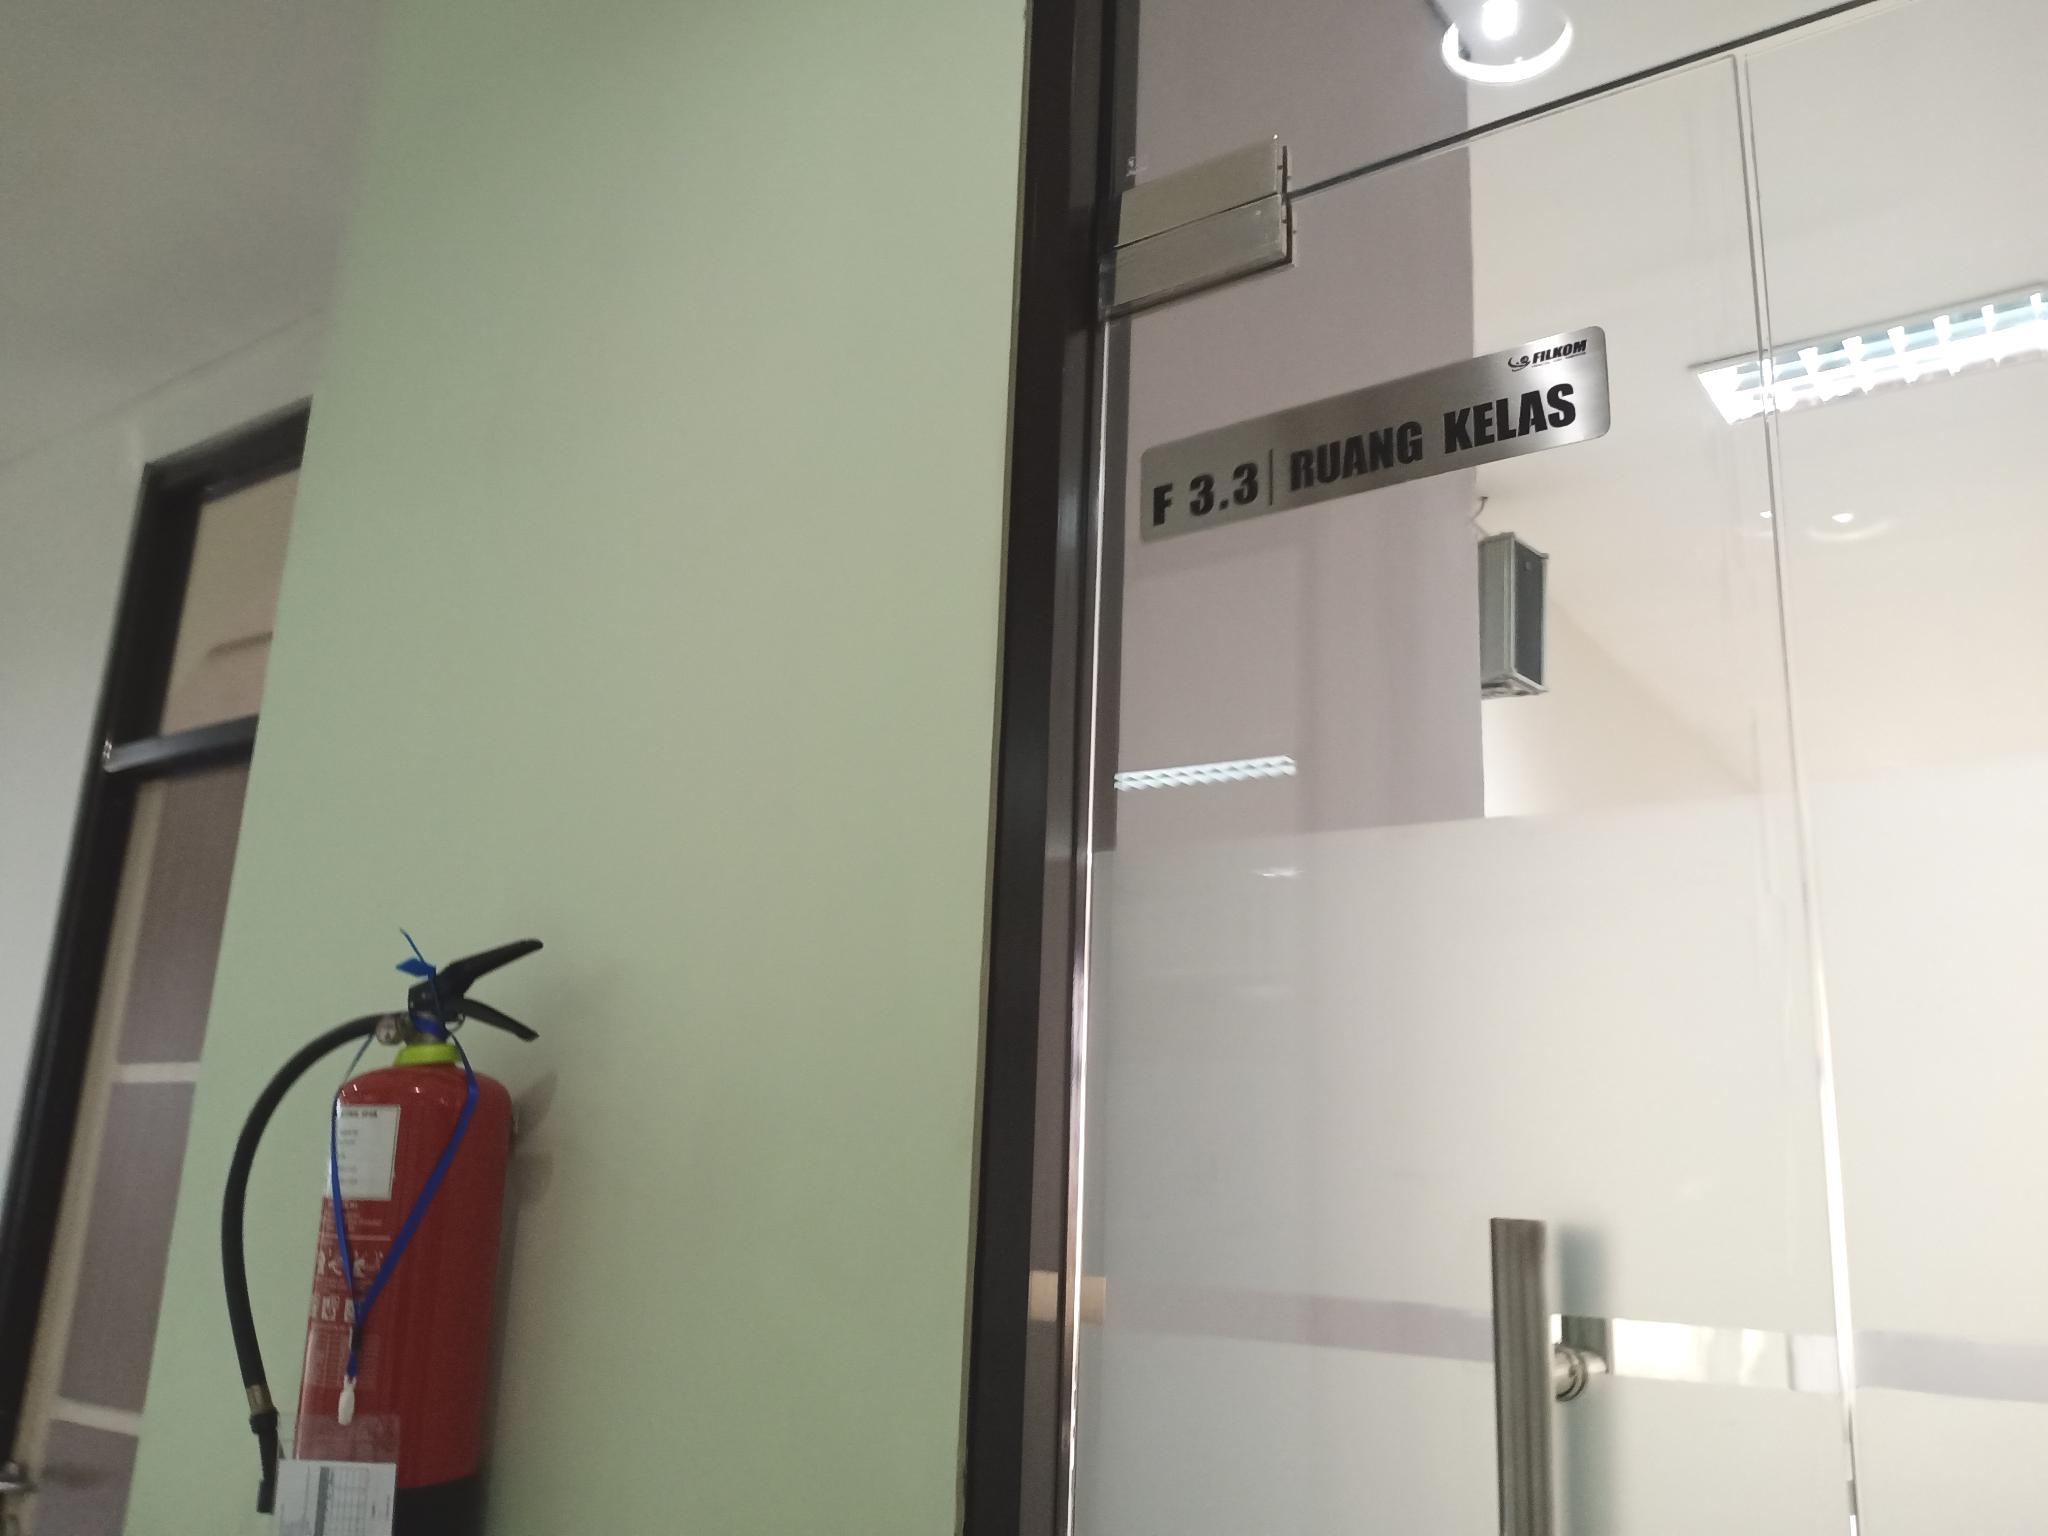plate: (1138, 323, 1609, 545)
